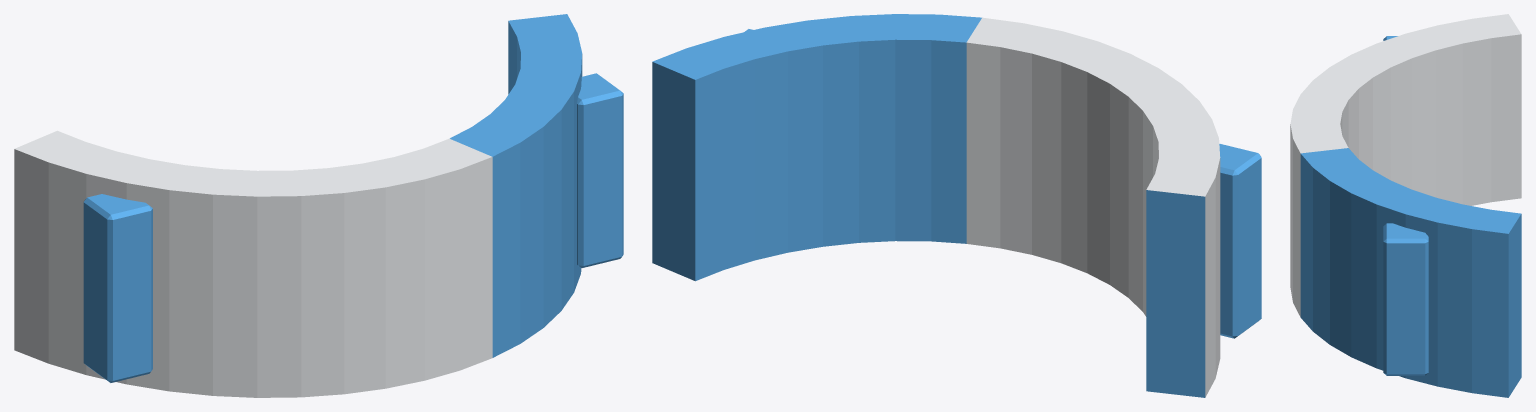
File: waist__side_clip.glb
3 renders of one model, left to right at view 1: azimuth 30°, elevation 25°; view 2: azimuth 150°, elevation 25°; view 3: azimuth 270°, elevation 25°, orthographic. The views are drawn at different scales.
Visible parts, largest first — view 1: armor_armor_waist__side_clip_v001_v001; view 2: armor_armor_waist__side_clip_v001_v001; view 3: armor_armor_waist__side_clip_v001_v001.
Part boxes in pixels (x1=…): armor_armor_waist__side_clip_v001_v001: x1=14, y1=14, x2=623, y2=397; armor_armor_waist__side_clip_v001_v001: x1=652, y1=14, x2=1261, y2=397; armor_armor_waist__side_clip_v001_v001: x1=1290, y1=14, x2=1521, y2=397.
Bounding box in the file's own units: 0.46 × 0.16 × 0.2042.
